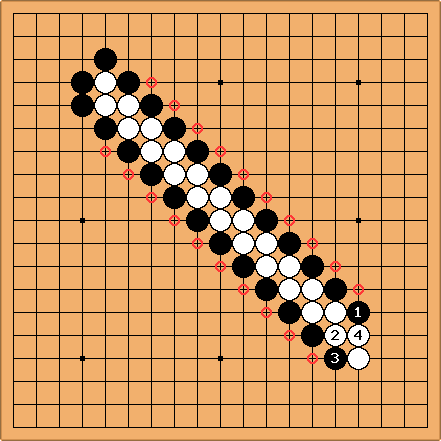black: (70, 70, 92, 92), (70, 93, 92, 115), (93, 47, 115, 69), (93, 116, 115, 138), (116, 70, 138, 92), (116, 139, 138, 161), (139, 93, 161, 115), (139, 162, 161, 184), (162, 116, 184, 138), (162, 185, 184, 207), (185, 209, 207, 231), (185, 139, 207, 161), (209, 232, 231, 254), (209, 162, 231, 184), (232, 255, 254, 277), (232, 185, 254, 207), (255, 209, 277, 231), (255, 278, 277, 300), (278, 232, 300, 254), (278, 301, 300, 323), (301, 255, 323, 277), (301, 324, 323, 346), (324, 278, 346, 300), (324, 347, 346, 369), (347, 301, 369, 323)
white: (93, 70, 115, 92), (93, 93, 115, 115), (116, 93, 138, 115), (116, 116, 138, 138), (139, 116, 161, 138), (139, 139, 161, 161), (162, 139, 184, 161), (162, 162, 184, 184), (185, 162, 207, 184), (185, 185, 207, 207), (209, 209, 231, 231), (209, 185, 231, 207), (232, 209, 254, 231), (232, 232, 254, 254), (255, 232, 277, 254), (255, 255, 277, 277), (278, 255, 300, 277), (278, 278, 300, 300), (301, 278, 323, 300), (301, 301, 323, 323), (324, 301, 346, 323), (324, 324, 346, 346), (347, 324, 369, 346), (347, 347, 369, 369)
